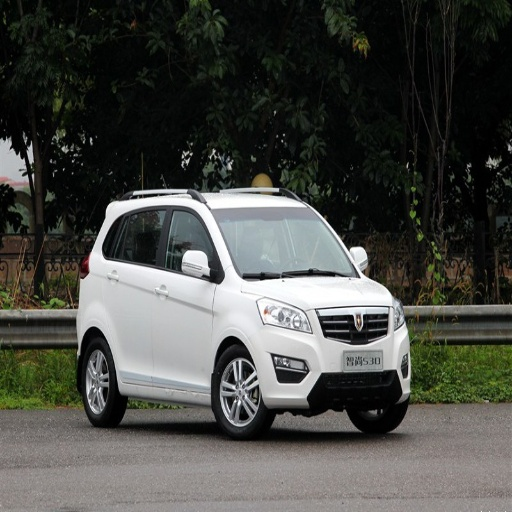front_bumper: (254, 306, 408, 408)
front_right_door: (153, 204, 220, 390)
front_right_light: (259, 299, 312, 333)
hood: (244, 275, 393, 307)
